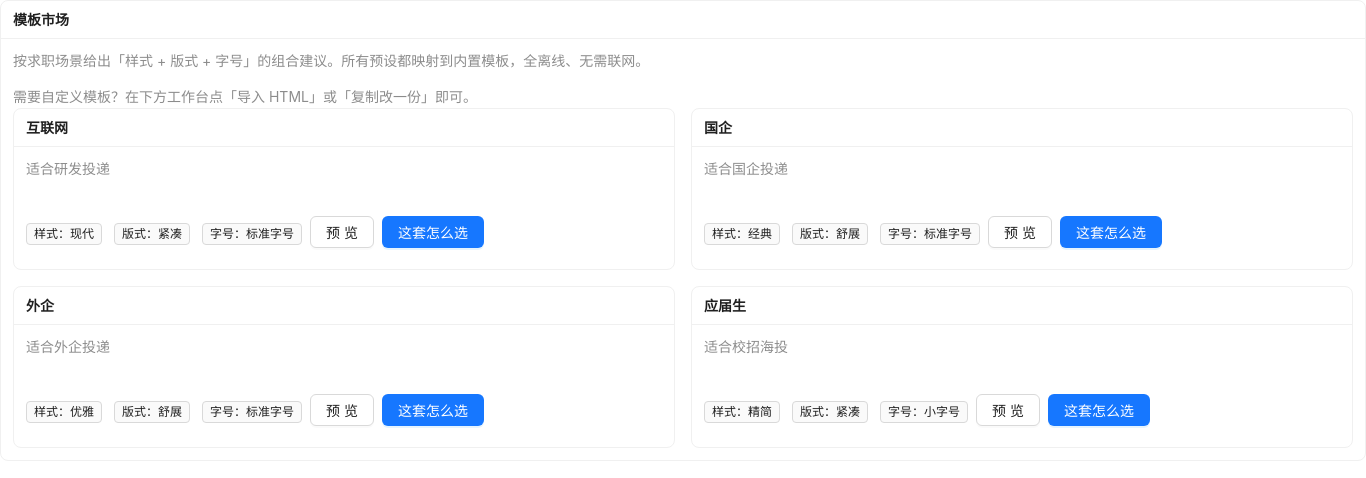
Test case: TemplateMarketTab › 点「这套怎么选」只说建议组合，不说已经套用
Check: the text "互联网" is shown, box [26, 118, 68, 136]
What coordinates should you click on to do the following:
click the button "这套怎么选" in the row of "现代"
I would click on:
 (433, 232)
Its box is [382, 216, 484, 248].
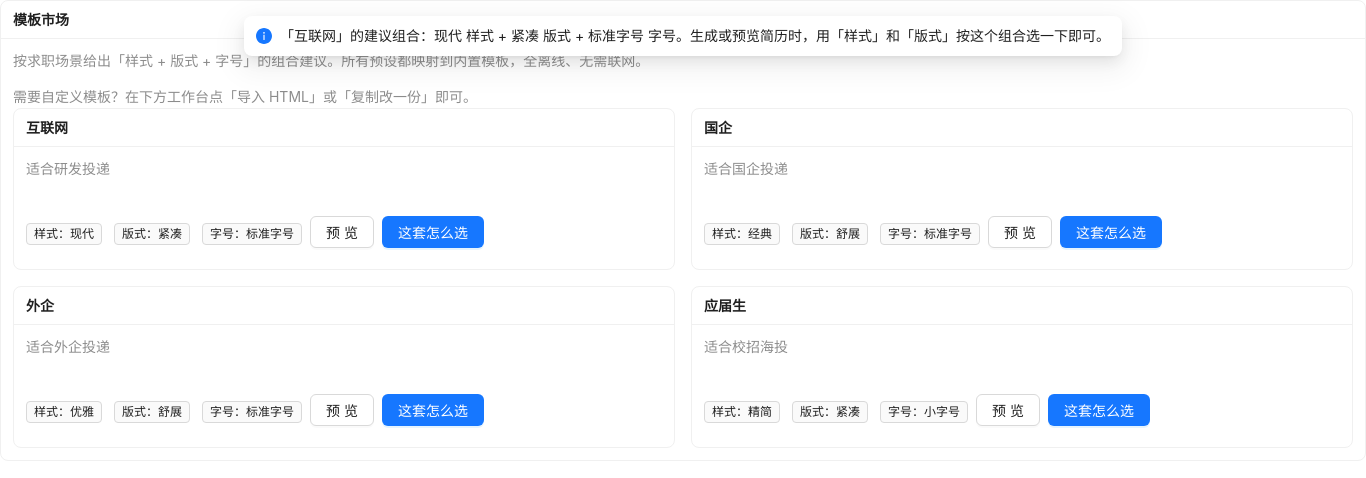
Check: the text "用「样式」和「版式」按这个组合选一下即可" is shown, box [280, 27, 1110, 44]
